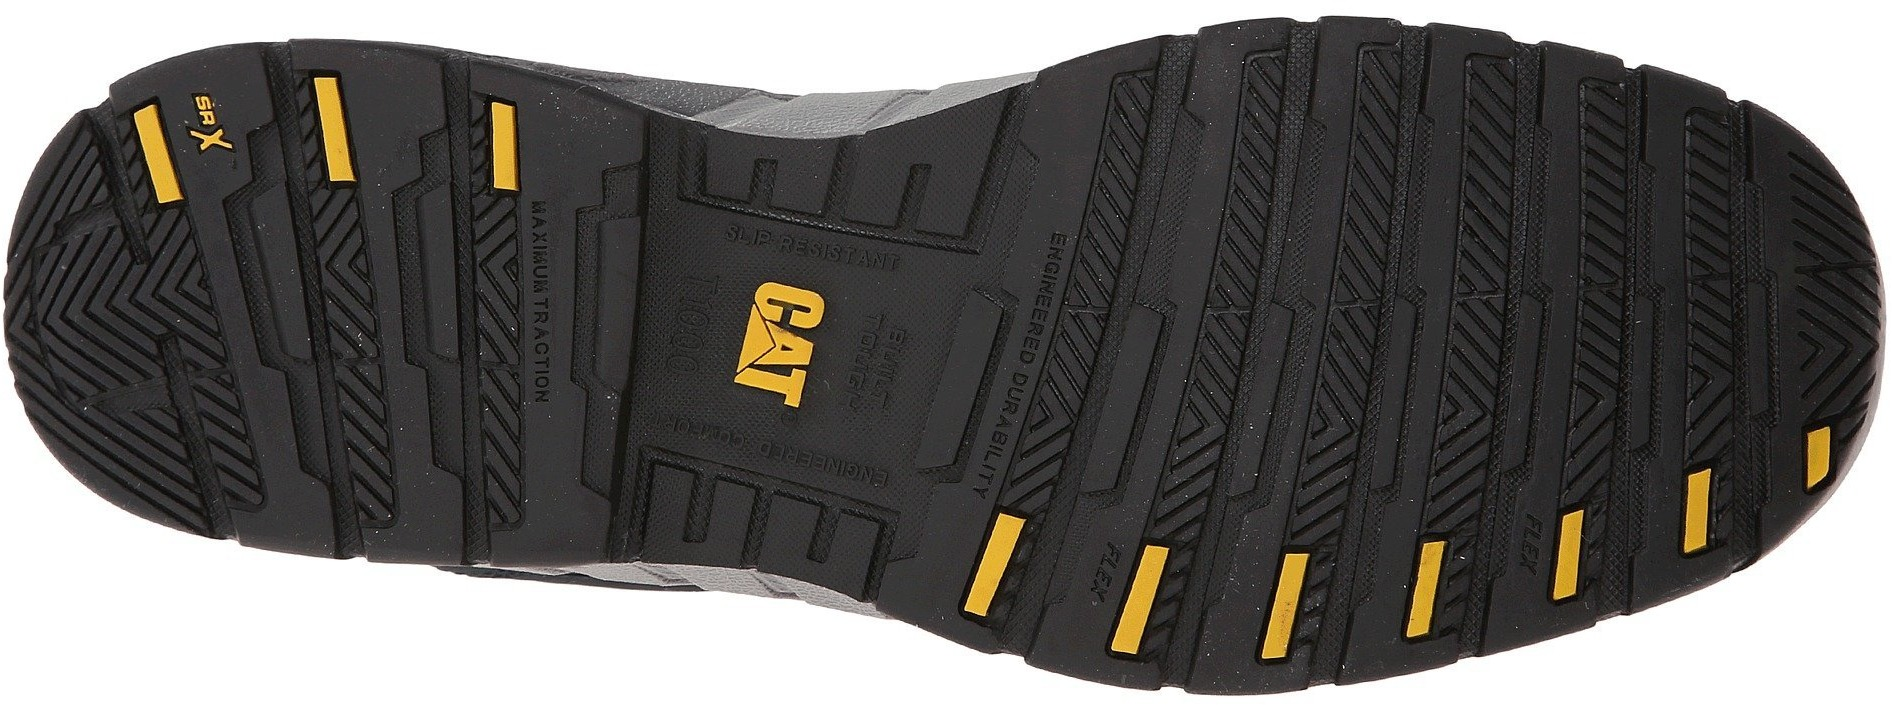chevron: (1285, 89, 1740, 520), (956, 170, 1308, 522), (258, 193, 550, 470), (1779, 256, 1875, 402)
line: (1285, 89, 1740, 520), (956, 170, 1308, 522), (1779, 256, 1875, 402)
quad: (1285, 89, 1740, 520), (956, 170, 1308, 522), (258, 193, 550, 470), (1195, 540, 1342, 676), (292, 53, 417, 194), (767, 141, 910, 255), (1397, 525, 1491, 659), (460, 75, 548, 202)
text: (956, 170, 1308, 522), (258, 193, 550, 470), (837, 297, 929, 418), (167, 83, 252, 167), (1501, 509, 1561, 575)
triangle: (1285, 89, 1740, 520), (956, 170, 1308, 522), (258, 193, 550, 470), (1779, 256, 1875, 402)
